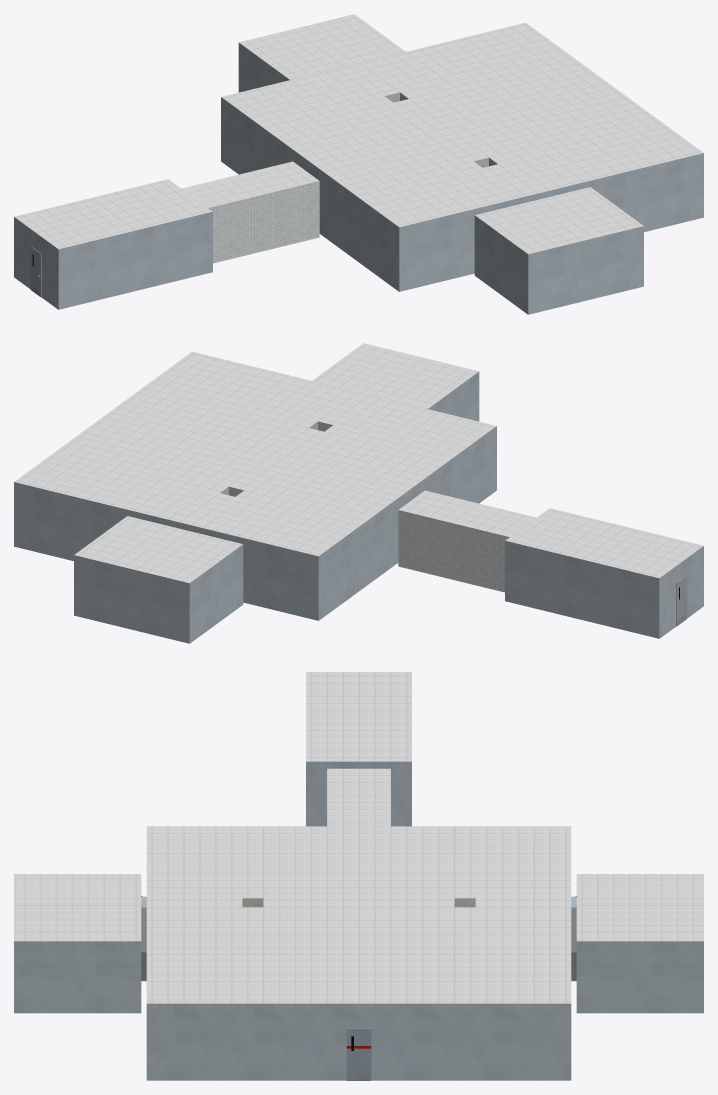
The model's file is checkpoint_3.glb.
The picture shows the model from 3 angles, top to bottom: view 1: azimuth 30°, elevation 25°; view 2: azimuth 150°, elevation 25°; view 3: azimuth 270°, elevation 25°; orthographic projection. The views are drawn at different scales.
Visible parts, largest first — view 1: Ceiling_Tile, Wall_Checkpoint, Wall_Tile, DoorLeaf_corridors_b; view 2: Ceiling_Tile, Wall_Checkpoint, Wall_Tile, DoorLeaf_corridors_b; view 3: Ceiling_Tile, Wall_Checkpoint, DoorLeaf_registrar_hall, Door_Frame.
Part boxes in pixels (left/top/right/bottom): Ceiling_Tile: left=14, top=14, right=703, bottom=254; Wall_Checkpoint: left=14, top=42, right=703, bottom=314; Wall_Tile: left=208, top=181, right=319, bottom=263; DoorLeaf_corridors_b: left=30, top=246, right=41, bottom=297; Ceiling_Tile: left=14, top=343, right=703, bottom=583; Wall_Checkpoint: left=14, top=371, right=703, bottom=643; Wall_Tile: left=398, top=510, right=509, bottom=592; DoorLeaf_corridors_b: left=676, top=575, right=687, bottom=626; Ceiling_Tile: left=14, top=672, right=703, bottom=1003; Wall_Checkpoint: left=14, top=761, right=703, bottom=1080; DoorLeaf_registrar_hall: left=346, top=1028, right=371, bottom=1080; Door_Frame: left=141, top=896, right=576, bottom=981.
Size of the model in its own units: 30.15 by 3.2 by 26.
29 materials, 13 textured.
